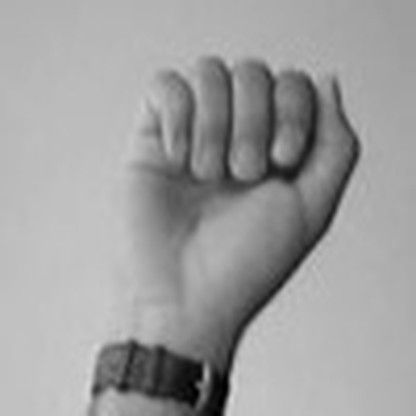a: (102, 41, 371, 304)
